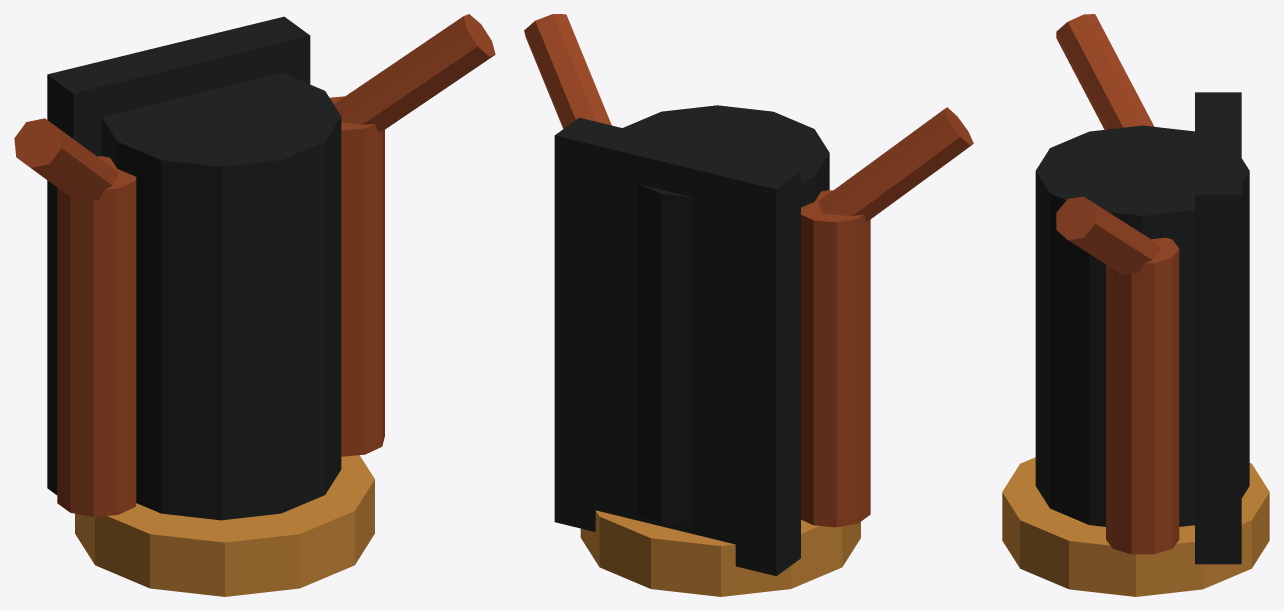
Rendered from PART_PipeBackpack_Blockout.obj.
3 views of the same model, side by side, from view 1: azimuth 30°, elevation 25°; view 2: azimuth 150°, elevation 25°; view 3: azimuth 270°, elevation 25° (orthographic). The views are drawn at different scales.
Parts seen in each view (by area): view 1: standalone_pipe_backpack_pressure_tank, standalone_pipe_backpack_left_pipe, standalone_pipe_backpack_mount_collar, spine_mount_plate, standalone_pipe_backpack_right_pipe, standalone_pipe_backpack_right_exhaust_bend, standalone_pipe_backpack_left_exhaust_bend; view 2: spine_mount_plate, standalone_pipe_backpack_pressure_tank, standalone_pipe_backpack_left_pipe, standalone_pipe_backpack_mount_collar, standalone_pipe_backpack_left_exhaust_bend, standalone_pipe_backpack_right_exhaust_bend; view 3: standalone_pipe_backpack_pressure_tank, spine_mount_plate, standalone_pipe_backpack_right_pipe, standalone_pipe_backpack_mount_collar, standalone_pipe_backpack_left_exhaust_bend, standalone_pipe_backpack_right_exhaust_bend.
Boxes of the visible parts, left/top/right/bottom form: standalone_pipe_backpack_pressure_tank: left=101, top=73, right=341, bottom=520; standalone_pipe_backpack_left_pipe: left=57, top=156, right=136, bottom=516; standalone_pipe_backpack_mount_collar: left=75, top=455, right=374, bottom=596; spine_mount_plate: left=47, top=16, right=310, bottom=494; standalone_pipe_backpack_right_pipe: left=330, top=96, right=384, bottom=456; standalone_pipe_backpack_right_exhaust_bend: left=333, top=14, right=495, bottom=131; standalone_pipe_backpack_left_exhaust_bend: left=14, top=118, right=118, bottom=204; spine_mount_plate: left=554, top=117, right=800, bottom=576; standalone_pipe_backpack_pressure_tank: left=623, top=105, right=829, bottom=527; standalone_pipe_backpack_left_pipe: left=801, top=190, right=870, bottom=527; standalone_pipe_backpack_mount_collar: left=580, top=510, right=860, bottom=596; standalone_pipe_backpack_left_exhaust_bend: left=818, top=107, right=973, bottom=221; standalone_pipe_backpack_right_exhaust_bend: left=524, top=14, right=611, bottom=128; standalone_pipe_backpack_pressure_tank: left=1035, top=125, right=1249, bottom=526; spine_mount_plate: left=1195, top=92, right=1241, bottom=564; standalone_pipe_backpack_right_pipe: left=1106, top=237, right=1179, bottom=554; standalone_pipe_backpack_mount_collar: left=1002, top=457, right=1269, bottom=596; standalone_pipe_backpack_left_exhaust_bend: left=1056, top=14, right=1154, bottom=129; standalone_pipe_backpack_right_exhaust_bend: left=1056, top=196, right=1161, bottom=275.
Bounding box in the file's own units: 0.8426 × 0.8253 × 0.46.
